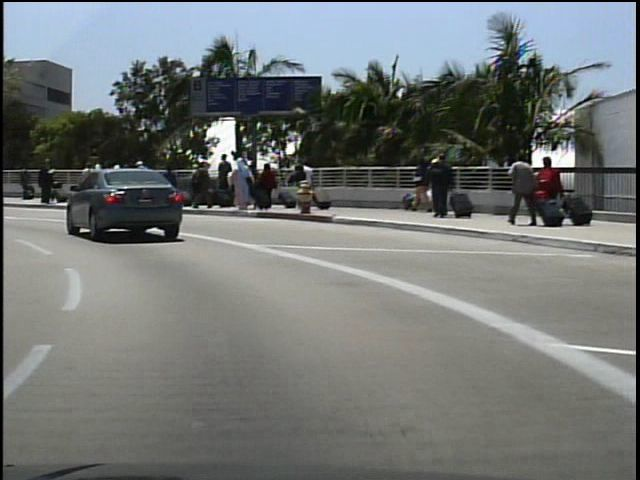person: (505, 150, 535, 226), (532, 152, 563, 225), (421, 152, 452, 219), (36, 157, 59, 210), (294, 155, 318, 205), (36, 155, 56, 204), (16, 163, 33, 202)
